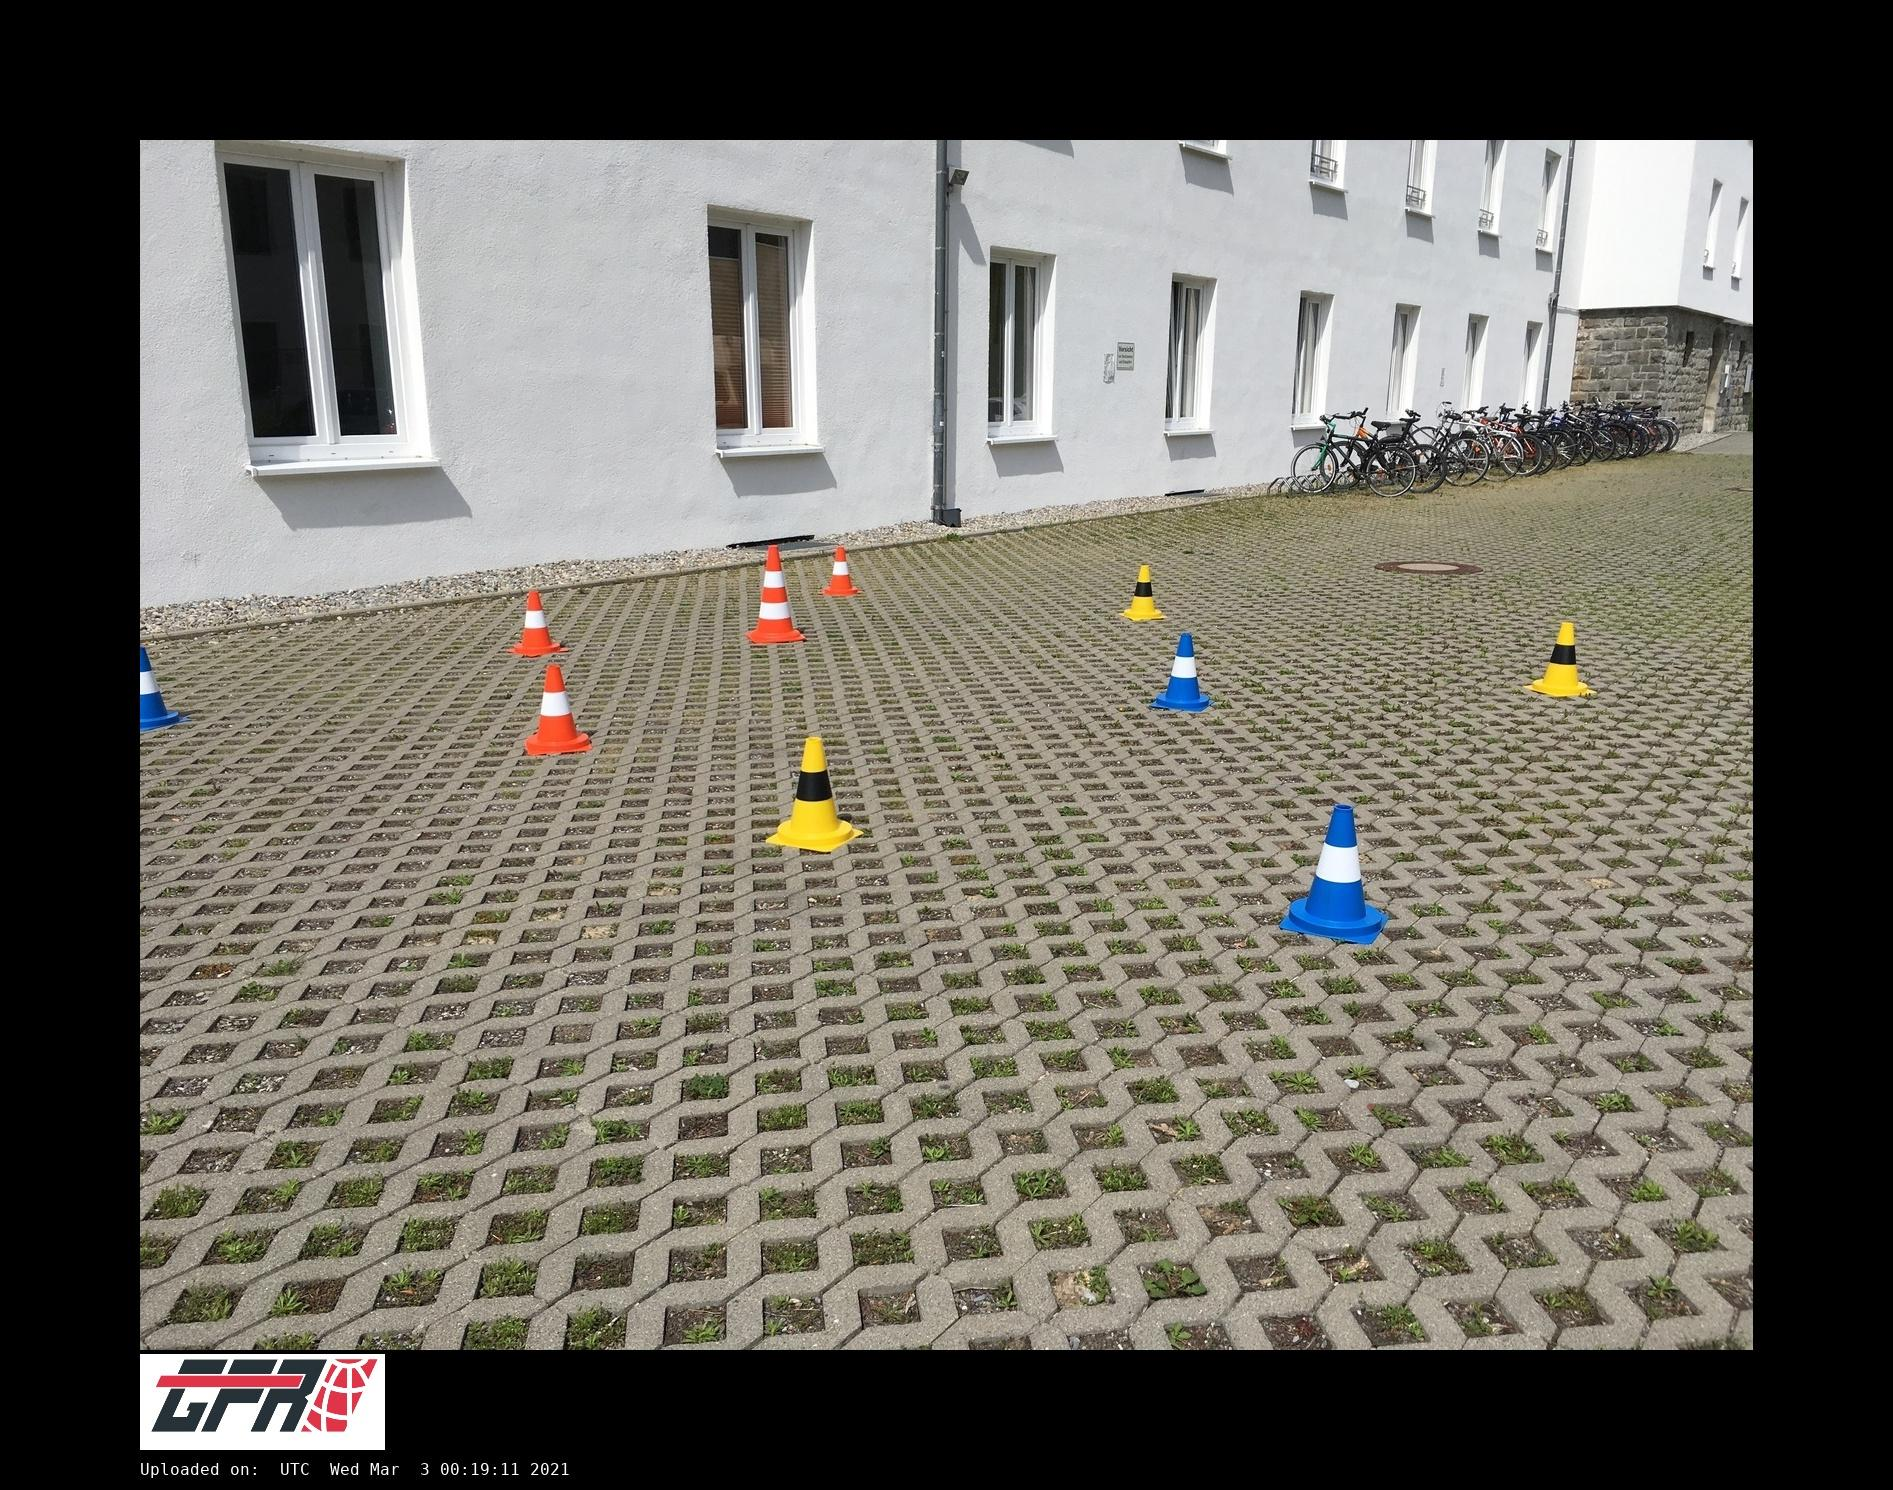blue_cone: (1281, 806, 1387, 945), (1149, 634, 1214, 713), (141, 647, 191, 733)
large_orange_cone: (748, 545, 807, 644)
orange_cone: (527, 665, 592, 753), (512, 591, 569, 656), (824, 548, 860, 598)
yellow_cone: (767, 737, 862, 849), (1524, 622, 1596, 696), (1122, 565, 1165, 621)
